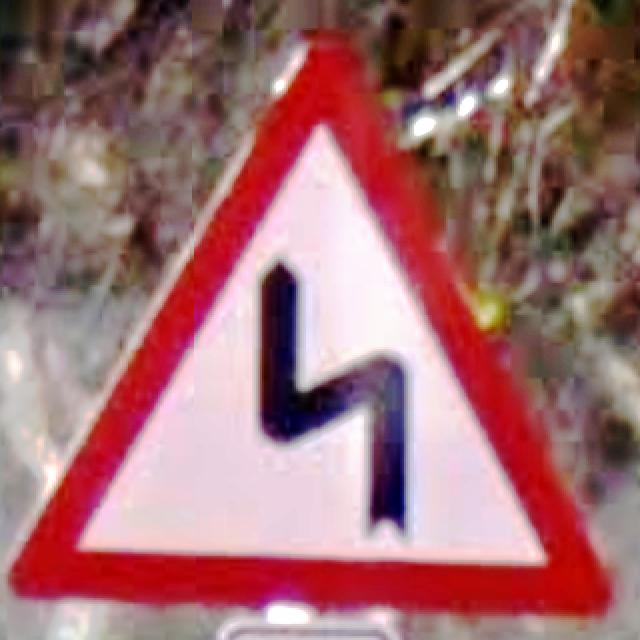doublebendleft: (10, 34, 616, 622)
